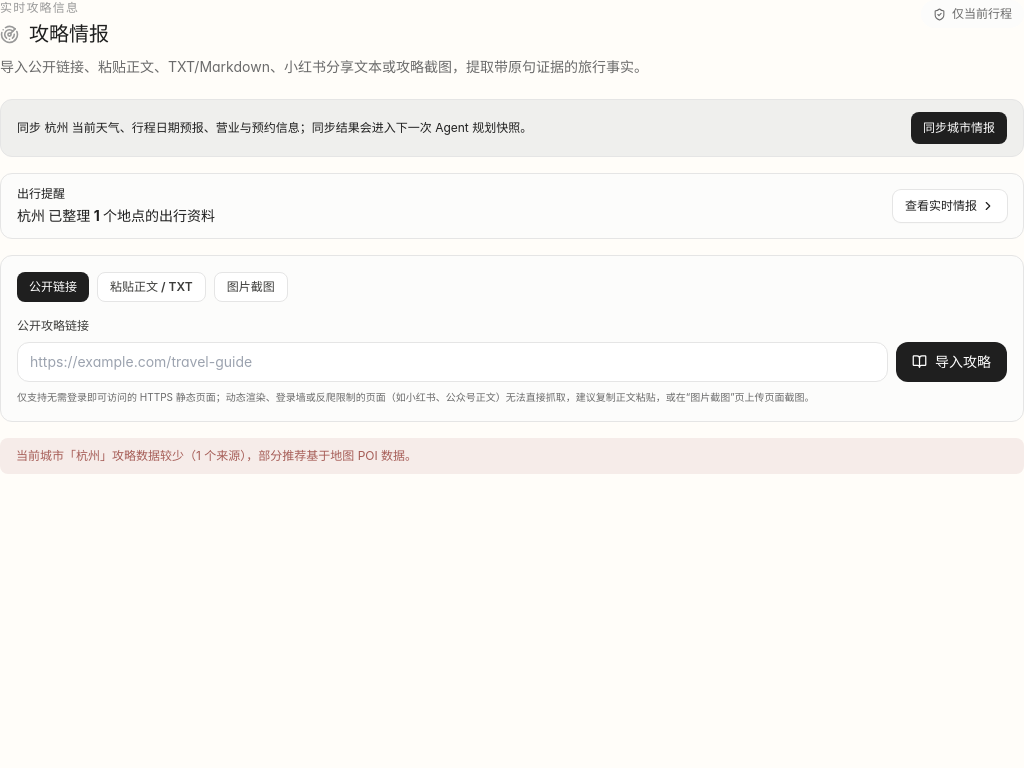
it: groups city intelligence into one place card with decision fields and excludes weather
Click the button "查看实时情报" at coordinates (950, 206), box [893, 190, 1007, 222]
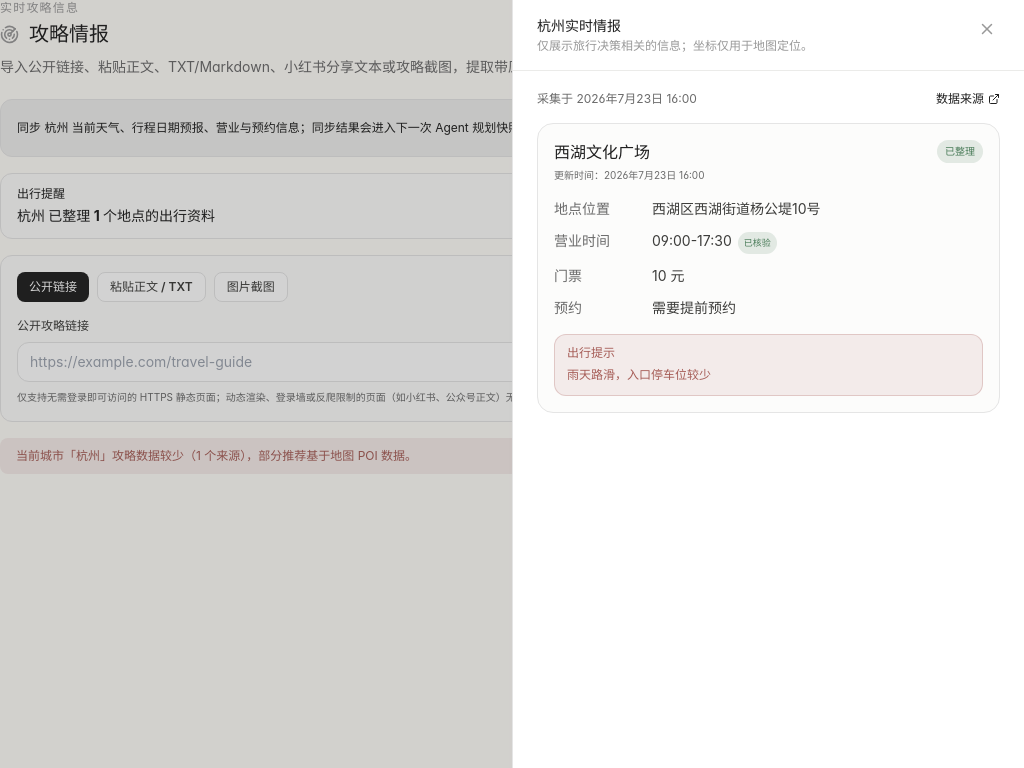
Expected: the element "西湖文化广场" is shown, [537, 123, 1000, 412]
Expected: the text "地点位置" is shown, [554, 200, 610, 217]
Expected: the text "西湖区西湖街道杨公堤10号" is shown, [652, 200, 820, 217]
